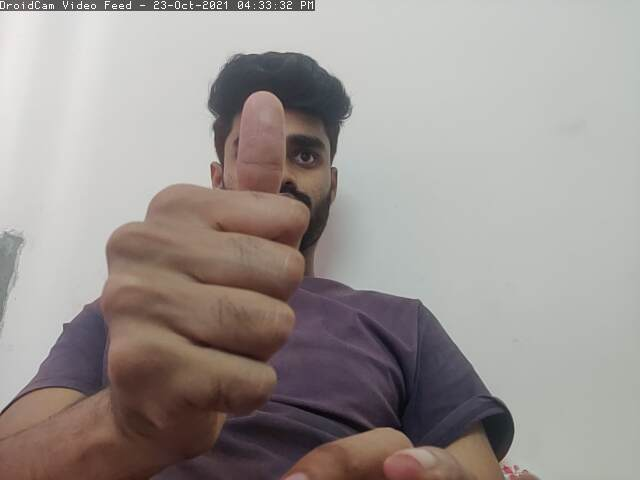ThumbsUp: (98, 90, 315, 442)
